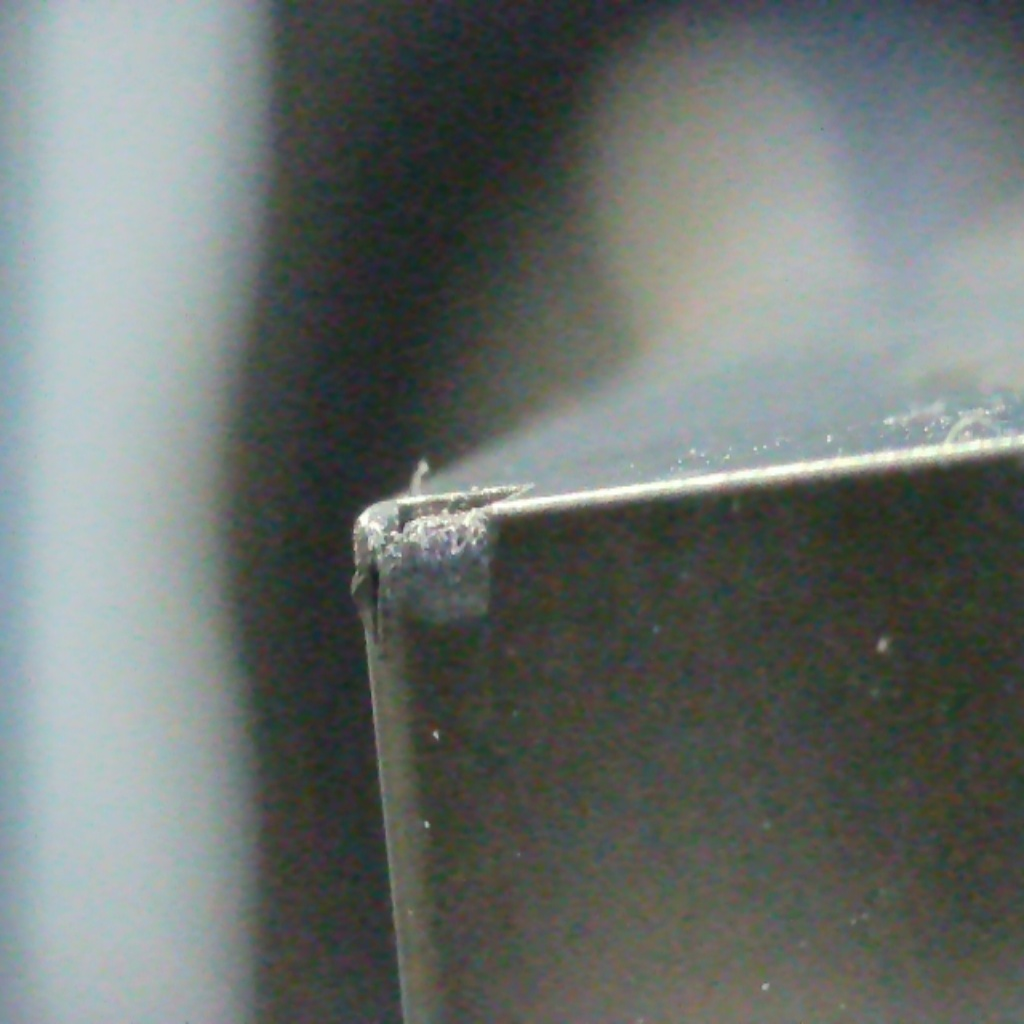flank_wear: (354, 523, 392, 652)
